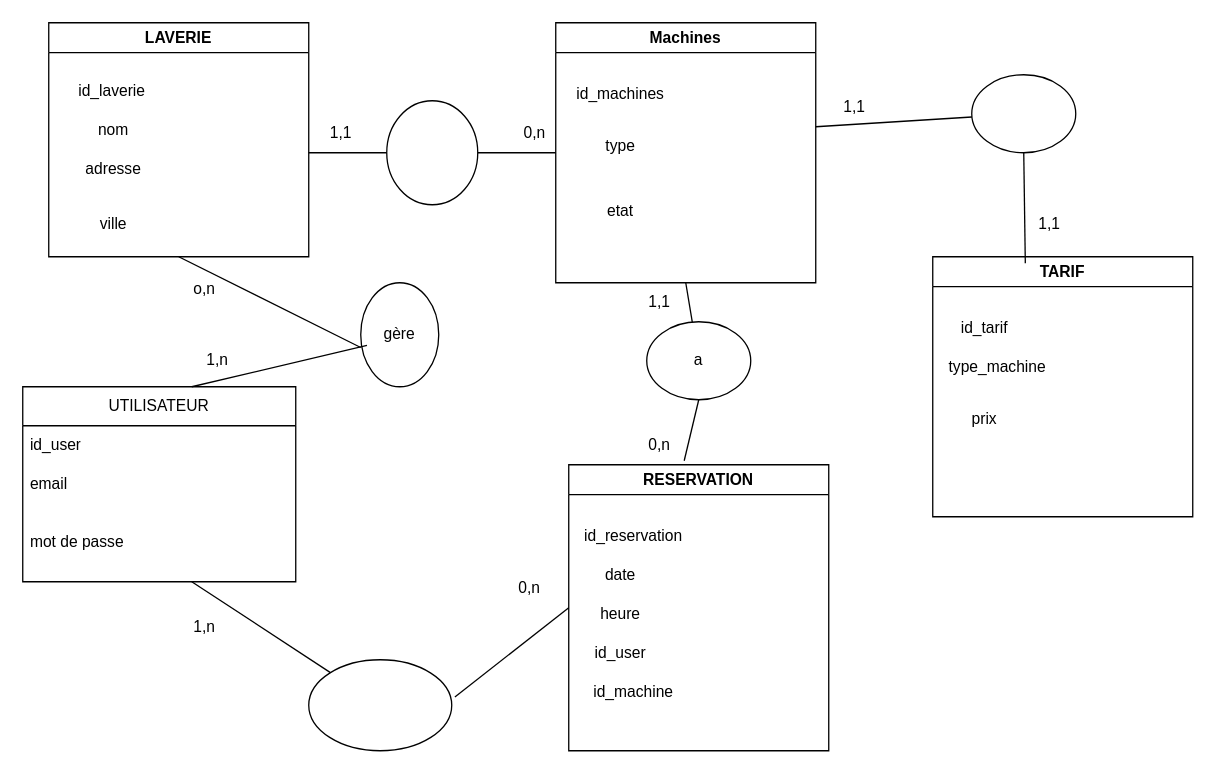
Some shapes in this 1216 by 774 pixel diagram are drawn without their labels. The shapes that lost their labels are listed below. From the top down, each one's centre as x and y in pixels, then its label:
point 1023,113: offre
point 431,152: possede
point 379,704: effectue
